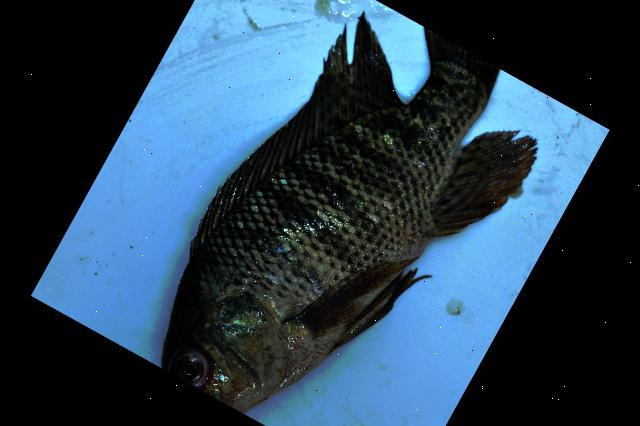Columnaris Disease: (162, 14, 536, 413)
